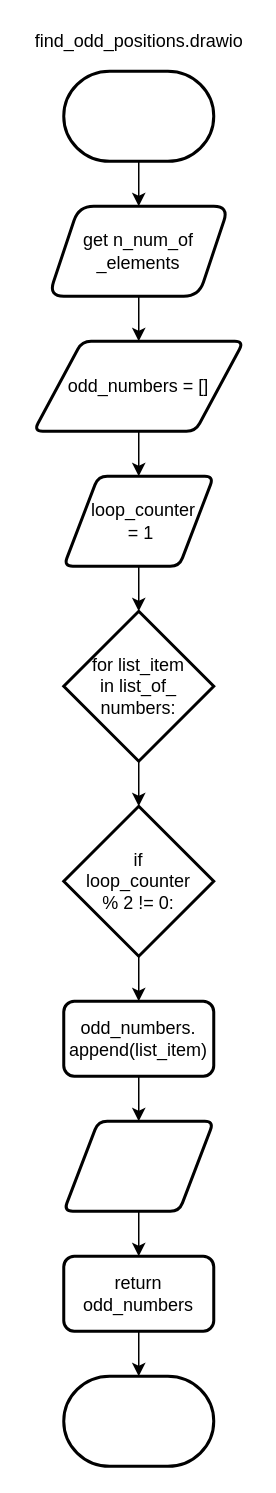
This 276x1493 diagram has some shape labels left out. Here are the shapes that lost their labels. From the top down, the centre of each, then its label:
(138,115): Start
(138,1165): loop_counter += 1
(138,1420): Stop
